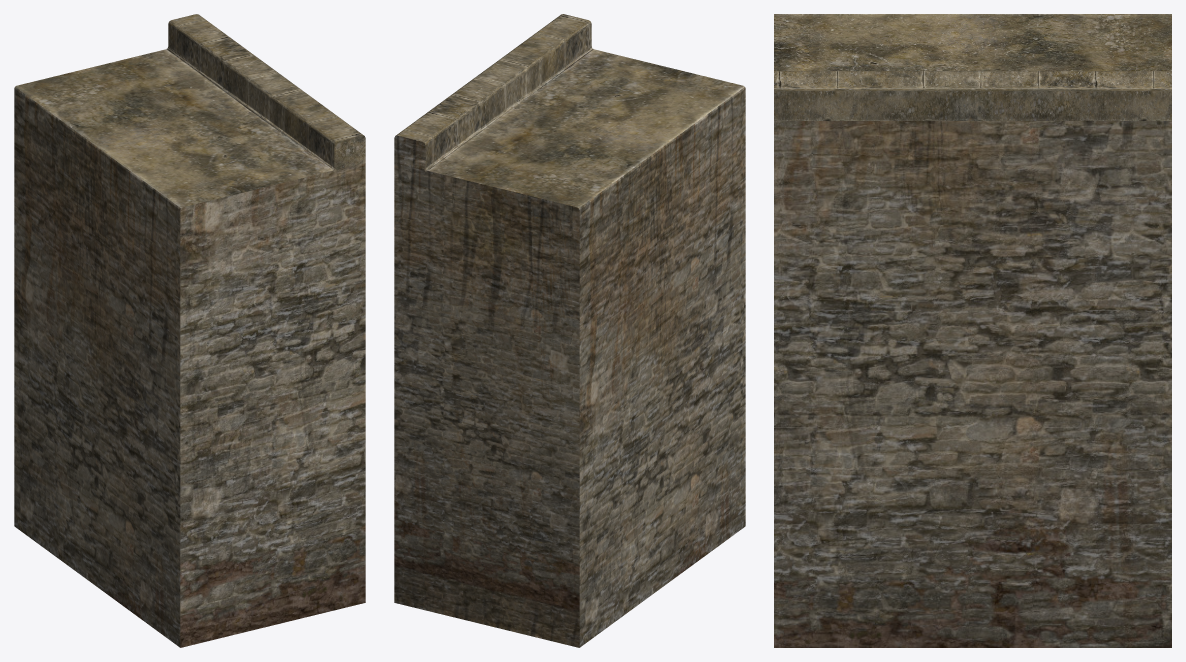
The model's file is modular_fort_01_wall_walkway_end_01.gltf.
3 renders of one model, left to right at view 1: azimuth 30°, elevation 25°; view 2: azimuth 150°, elevation 25°; view 3: azimuth 270°, elevation 25°, orthographic. The views are drawn at different scales.
Parts seen in each view (by area): view 1: modular_fort_01_wall_walkway_end_01__x; view 2: modular_fort_01_wall_walkway_end_01__x; view 3: modular_fort_01_wall_walkway_end_01__x.
Part boxes in pixels (<box>): modular_fort_01_wall_walkway_end_01__x: <box>14,14,365,647</box>; modular_fort_01_wall_walkway_end_01__x: <box>394,14,745,647</box>; modular_fort_01_wall_walkway_end_01__x: <box>774,14,1171,647</box>.
Bounding box in the file's own units: 3.12 × 7.53 × 4.85.
2 materials, 2 textured.
